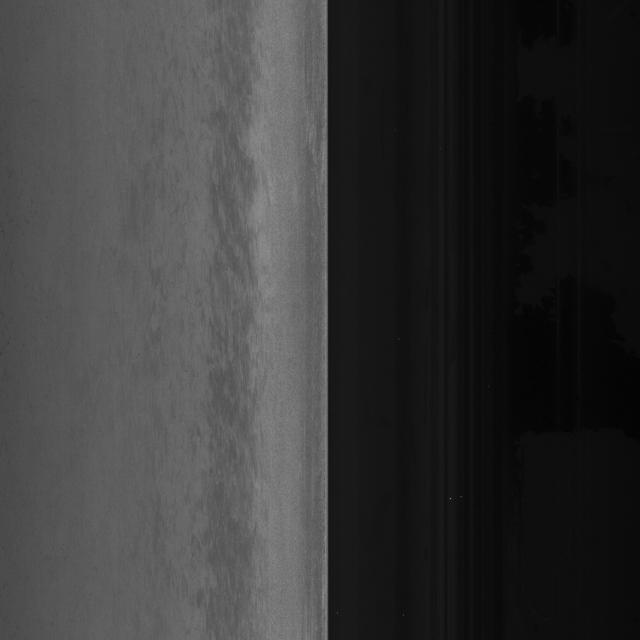inclusion: (205, 138, 258, 497)
